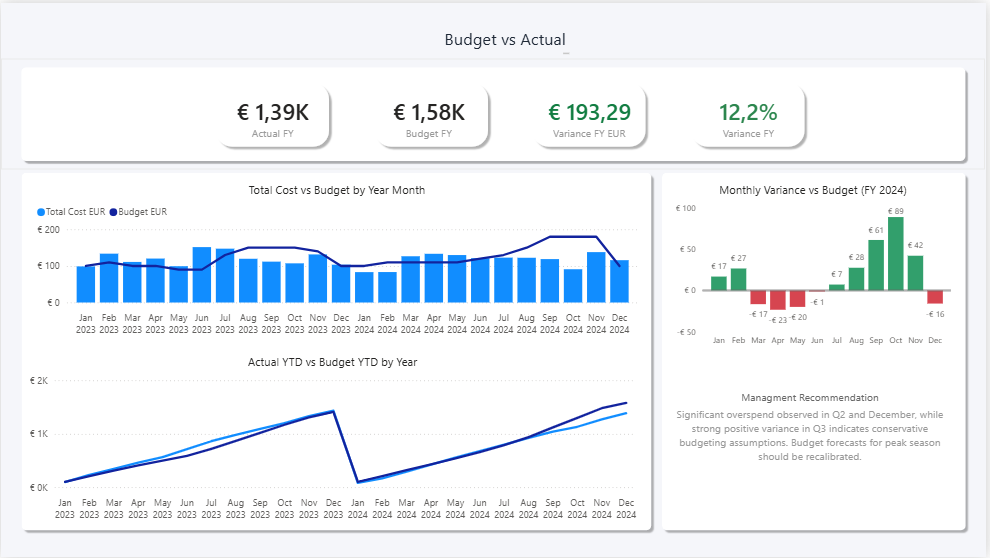

Layout of this report page (visuals, bound fields, positions):
{"tool":"powerbi","page":{"name":"Budget vs Actual","canvas":[1280,720],"ordinal":2},"visuals":[{"type":"shape","box":[0,72,1280,144],"z":2000},{"type":"shape","box":[0,208,872,488],"z":3000},{"type":"textbox","title":"Budget vs Actual","box":[568,32,176,40],"z":4000},{"type":"shape","box":[479,96.6,160,96],"z":5000},{"type":"shape","box":[685.4,96.6,160,96],"z":6000},{"type":"shape","box":[891.8,96.6,160,96],"z":7000},{"type":"shape","box":[272.6,96.6,160,96],"z":8000},{"type":"shape","box":[832,208,448,488],"z":9000},{"type":"cardVisual","fields":{"Data":["Measures#.Total YTD"]},"box":[264.6,96.6,176,96],"z":10000},{"type":"cardVisual","fields":{"Data":["Measures#.Budget YTD"]},"box":[464.6,96.6,184,96],"z":11000},{"type":"cardVisual","fields":{"Data":["Measures#.Variance YTD EUR"]},"box":[664.6,96.6,200,96],"z":12000},{"type":"cardVisual","fields":{"Data":["Measures#.Variance YTD %"]},"box":[872.6,96.6,200,96],"z":13000},{"type":"lineClusteredColumnComboChart","title":"Total Cost vs Budget by Year Month","fields":{"Category":["dim_Calendar.YearMonth Short","dim_Calendar.Year"],"Y":["Measures#.Total Cost EUR"],"Y2":["Measures#.Budget EUR"]},"box":[40,232,792,208],"z":14000},{"type":"lineChart","title":"Actual YTD vs Budget YTD by Year","fields":{"Y":["Measures#.Actual YTD","Measures#.Budget YTD"],"Category":["dim_Calendar.YearMonth Short","dim_Calendar.Year"]},"box":[32,456,800,224],"z":15000},{"type":"clusteredColumnChart","title":"Monthly Variance vs Budget (FY 2024)","fields":{"Y":["Measures#.Variance EUR"],"Category":["dim_Calendar.YearMonth Short"]},"box":[872,232,368,224],"z":16000},{"type":"textbox","title":"Managment Recommendation","box":[872,504,360,128],"z":17000}]}

Visuals, with their boxes in screenshot pixels (x1, y1, x2, y2), scaled from the page's 1280x720 canvas onto the 990x558 screenshot:
shape: rect(0, 56, 989, 167)
shape: rect(0, 161, 674, 539)
"Budget vs Actual" textbox: rect(439, 25, 575, 56)
shape: rect(370, 75, 494, 149)
shape: rect(530, 75, 654, 149)
shape: rect(690, 75, 814, 149)
shape: rect(211, 75, 335, 149)
shape: rect(644, 161, 989, 539)
cardVisual - Measures#.Total YTD: rect(205, 75, 341, 149)
cardVisual - Measures#.Budget YTD: rect(359, 75, 502, 149)
cardVisual - Measures#.Variance YTD EUR: rect(514, 75, 669, 149)
cardVisual - Measures#.Variance YTD %: rect(675, 75, 830, 149)
"Total Cost vs Budget by Year Month" lineClusteredColumnComboChart: rect(31, 180, 644, 341)
"Actual YTD vs Budget YTD by Year" lineChart: rect(25, 353, 644, 527)
"Monthly Variance vs Budget (FY 2024)" clusteredColumnChart: rect(674, 180, 959, 353)
"Managment Recommendation" textbox: rect(674, 391, 953, 490)
